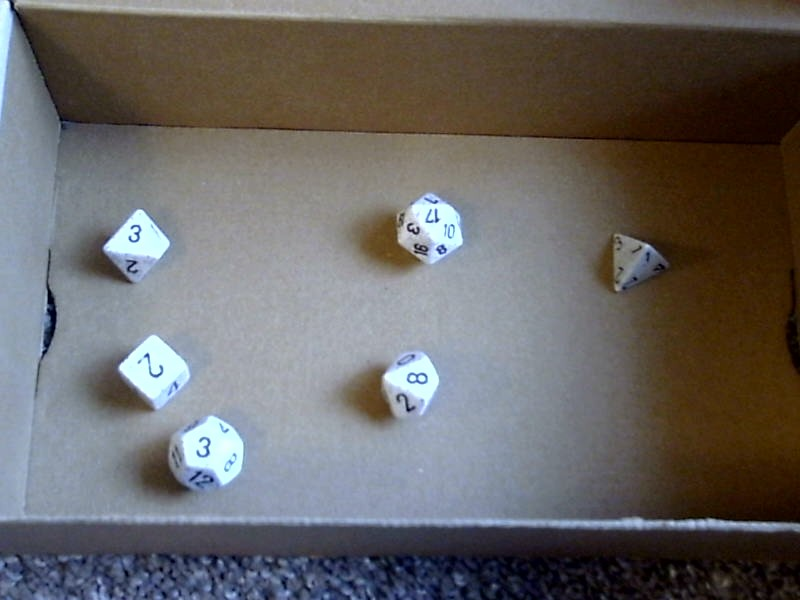d10 8: (374, 343, 443, 429)
d12 3: (165, 412, 247, 498)
d20 17: (387, 184, 470, 270)
d4 1: (600, 224, 676, 300)
d6 2: (113, 331, 192, 413)
d8 3: (91, 202, 179, 291)
